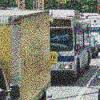buses: (51, 11, 96, 76)
